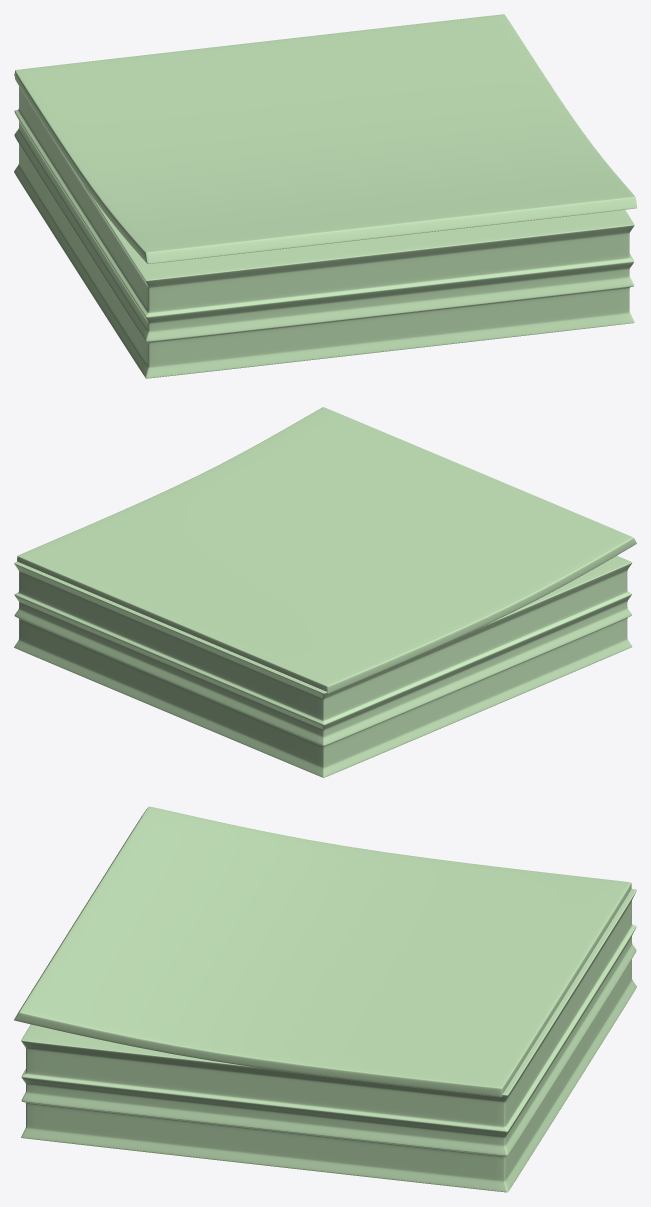
Rendered from stickynotes.glb.
3 renders of one model, top to bottom at view 1: azimuth 30°, elevation 25°; view 2: azimuth 150°, elevation 25°; view 3: azimuth 270°, elevation 25°, orthographic. The views are drawn at different scales.
Visible parts, largest first — view 1: sticky pad; view 2: sticky pad; view 3: sticky pad.
Boxes of the visible parts, x1,y1,x2,y2 form: sticky pad: (14,14,636,378); sticky pad: (14,407,636,777); sticky pad: (14,806,636,1192).
Bounding box in the file's own units: 0.1048 × 0.0237 × 0.1057.
